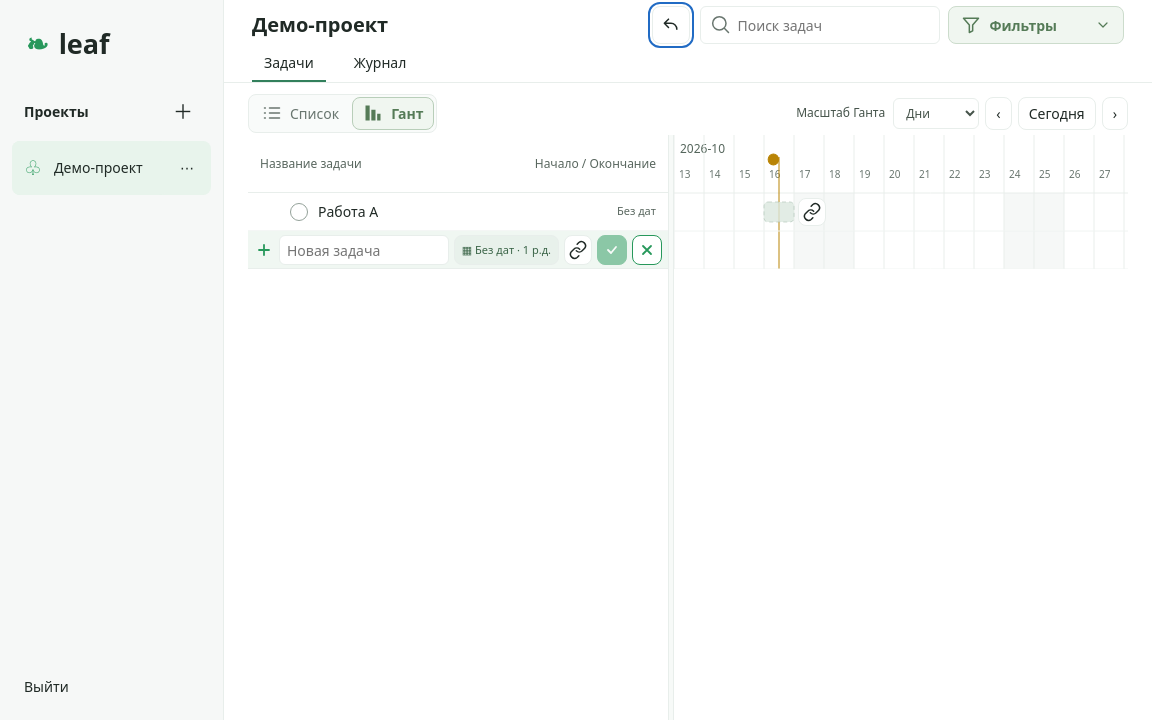
it: client HTTP interactions › restores one-step undo focus after DOM commit with animation frames before commit
Expected: the heading "Демо-проект" is shown, top-left (252, 11), bottom-right (388, 38)
Click the button named "Отменить изменение плана" at (671, 25), box top-left (652, 6), bottom-right (690, 44)
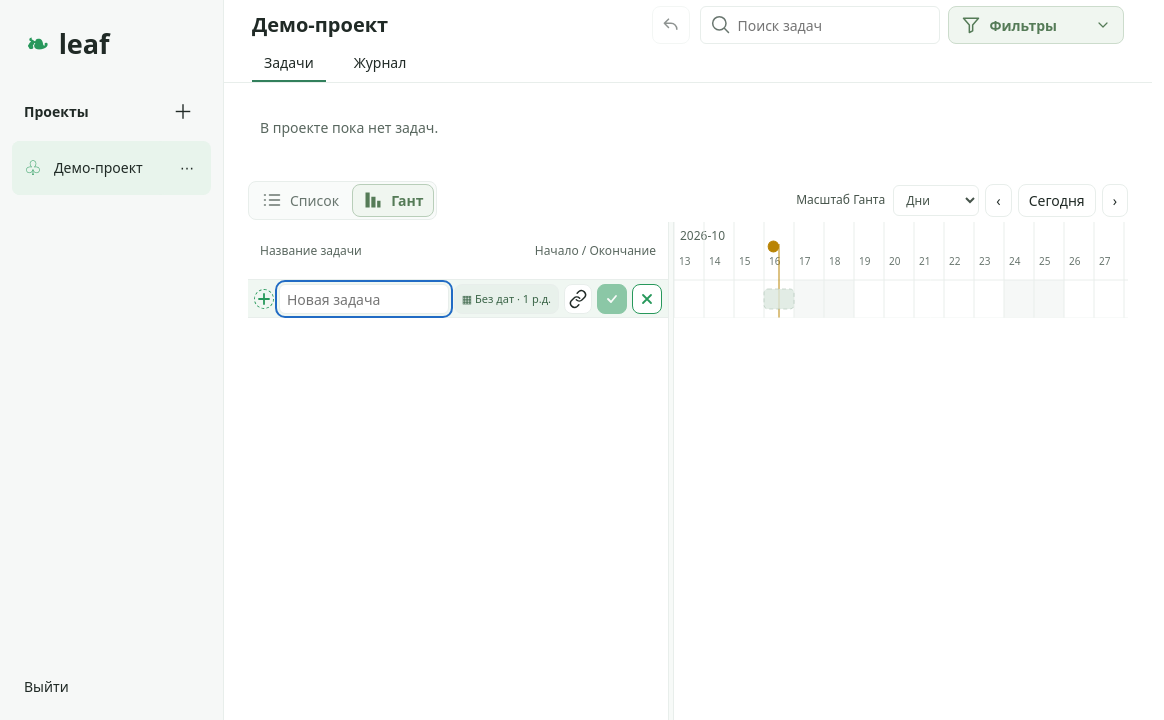
Expected: the text "В проекте пока нет задач." is shown, top-left (260, 118), bottom-right (438, 137)
Expected: the button named "Отменить изменение плана" is disabled, top-left (652, 6), bottom-right (690, 44)
